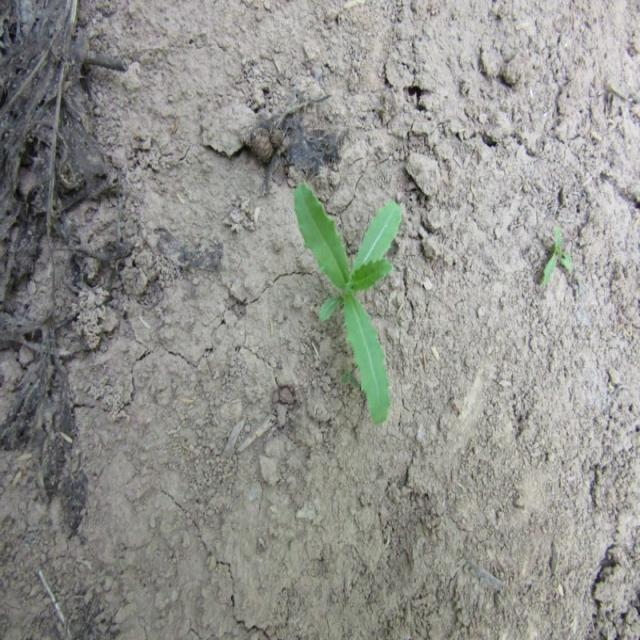cs: (292, 182, 404, 432)
